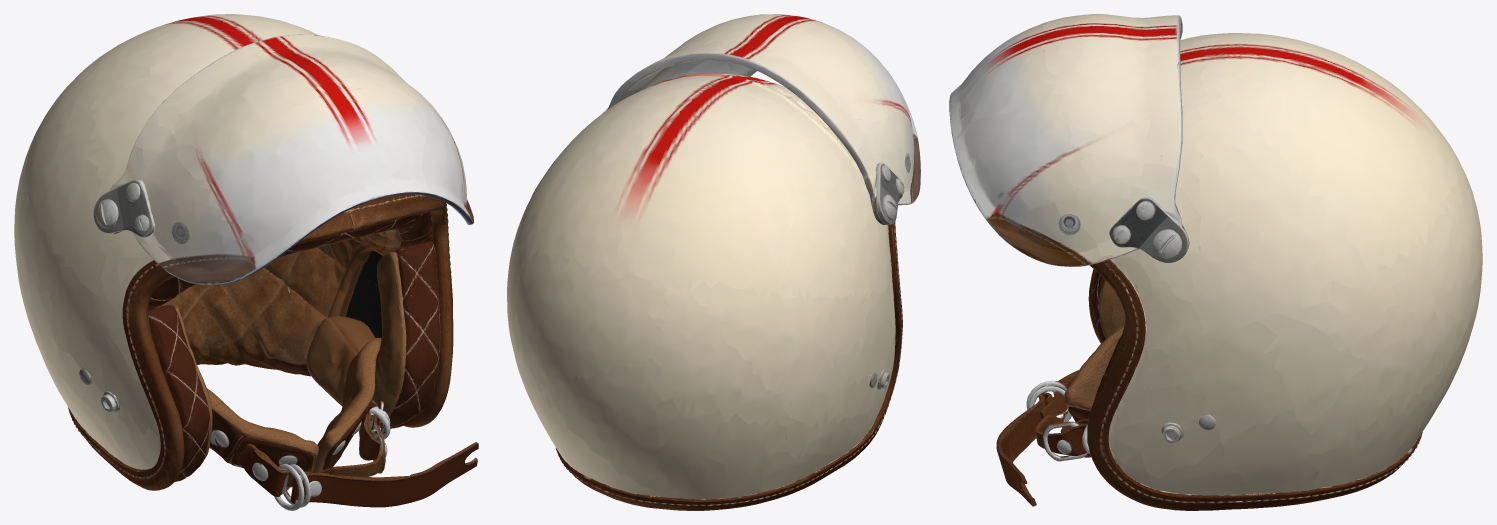
The model's file is helmet.glb.
The picture shows the model from 3 angles, left to right: view 1: azimuth 30°, elevation 25°; view 2: azimuth 150°, elevation 25°; view 3: azimuth 270°, elevation 25°; orthographic projection. The views are drawn at different scales.
Parts seen in each view (by area): view 1: Mesh_0; view 2: Mesh_0; view 3: Mesh_0.
Boxes of the visible parts, x1,y1,x2,y2 form: Mesh_0: [14, 14, 478, 510]; Mesh_0: [507, 14, 920, 510]; Mesh_0: [949, 14, 1482, 510].
Bounding box in the file's own units: 1.47 × 1.65 × 1.9.
1 material, 1 textured.
